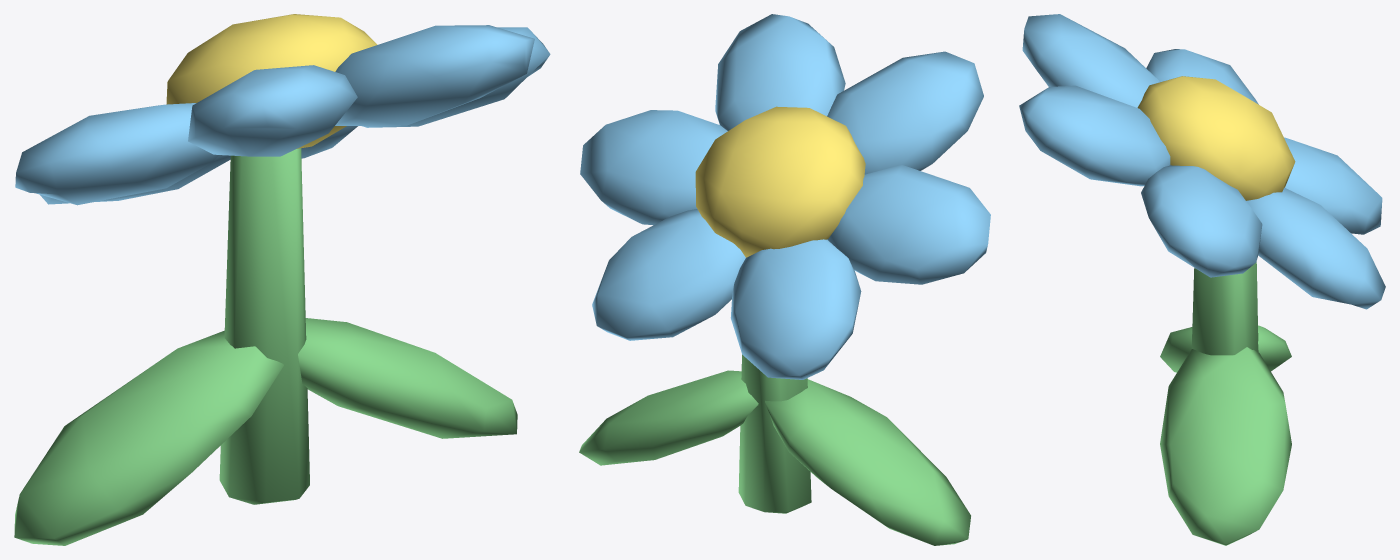
File: flower_daisy_blue.glb
3 renders of one model, left to right at view 1: azimuth 30°, elevation 25°; view 2: azimuth 150°, elevation 25°; view 3: azimuth 270°, elevation 25°, orthographic. The views are drawn at different scales.
Visible parts, largest first — view 1: Leaf_-1, Stem, Leaf_1, Petal_5, Petal_3, Petal_4, ButtonCenter, Petal_0, Petal_2; view 2: ButtonCenter, Leaf_-1, Petal_2, Petal_3, Petal_1, Petal_4, Petal_0, Petal_5, Leaf_1, Stem; view 3: Leaf_1, ButtonCenter, Petal_5, Petal_1, Petal_0, Petal_4, Stem, Petal_2, Petal_3, Leaf_-1.
Boxes of the visible parts, x1,y1,x2,y2 form: Leaf_-1: (14,330,283,545); Stem: (219,148,309,504); Leaf_1: (298,318,517,438); Petal_5: (335,25,534,125); Petal_3: (15,103,219,205); Petal_4: (188,65,357,156); ButtonCenter: (166,14,377,148); Petal_0: (362,27,550,127); Petal_2: (40,155,230,204); ButtonCenter: (695,106,865,257); Leaf_-1: (765,379,970,545); Petal_2: (730,239,861,379); Petal_3: (827,165,990,284); Petal_1: (592,209,745,340); Petal_4: (827,51,983,174); Petal_0: (580,110,727,225); Petal_5: (715,14,845,130); Leaf_1: (579,370,758,465); Stem: (738,354,811,513); Leaf_1: (1160,347,1291,545); ButtonCenter: (1137,76,1295,200); Petal_5: (1019,85,1170,186); Petal_1: (1246,187,1385,309); Petal_0: (1141,165,1262,277); Petal_4: (1022,14,1159,107); Stem: (1191,262,1258,355); Petal_2: (1284,137,1382,234); Petal_3: (1146,49,1258,104); Leaf_-1: (1160,325,1291,372).
Size of the model in its own units: 0.3998 by 0.3763 by 0.312.
